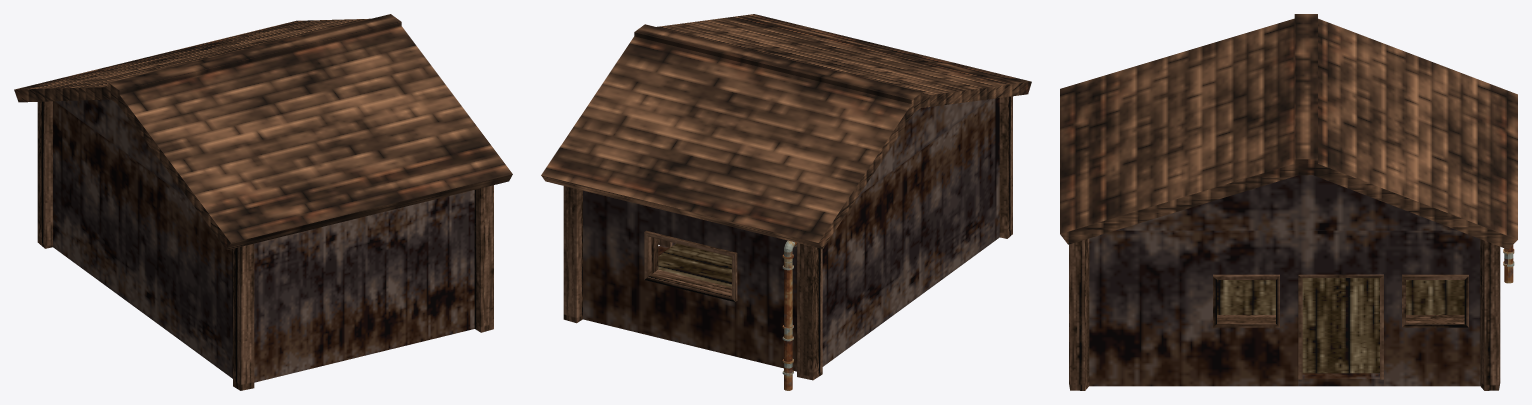
Rendered from concrete_garden_house.fbx.
3 renders of one model, left to right at view 1: azimuth 30°, elevation 25°; view 2: azimuth 150°, elevation 25°; view 3: azimuth 270°, elevation 25°, orthographic. The views are drawn at different scales.
Visible parts, largest first — view 1: Garden House Bigger, Cube.007; view 2: Cube.007, Garden House Bigger, Pipe.004; view 3: Garden House Bigger, Cube.007.
Boxes of the visible parts, left/top/right/bottom form: Garden House Bigger: left=37, top=99, right=493, bottom=390; Cube.007: left=14, top=14, right=512, bottom=249; Cube.007: left=541, top=14, right=1031, bottom=248; Garden House Bigger: left=563, top=96, right=1012, bottom=380; Pipe.004: left=782, top=261, right=793, bottom=334; Garden House Bigger: left=1069, top=175, right=1500, bottom=390; Cube.007: left=1060, top=14, right=1517, bottom=249.
Size of the model in its own units: 1086 by 869 by 1446.
